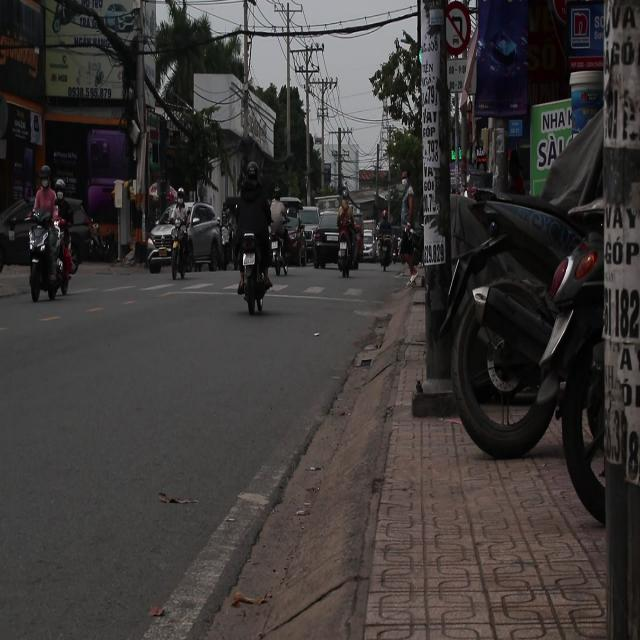car: (308, 182, 353, 284), (167, 203, 225, 276)
motorbike: (234, 216, 273, 342), (26, 210, 79, 302), (336, 206, 372, 299), (264, 222, 304, 302)
